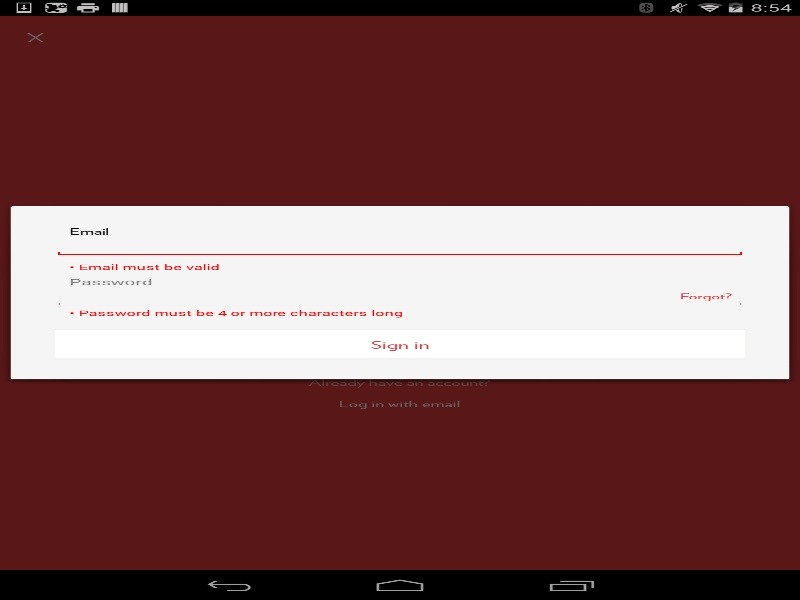Button: (53, 329, 746, 359)
Input: (53, 234, 746, 256), (53, 285, 746, 307)
